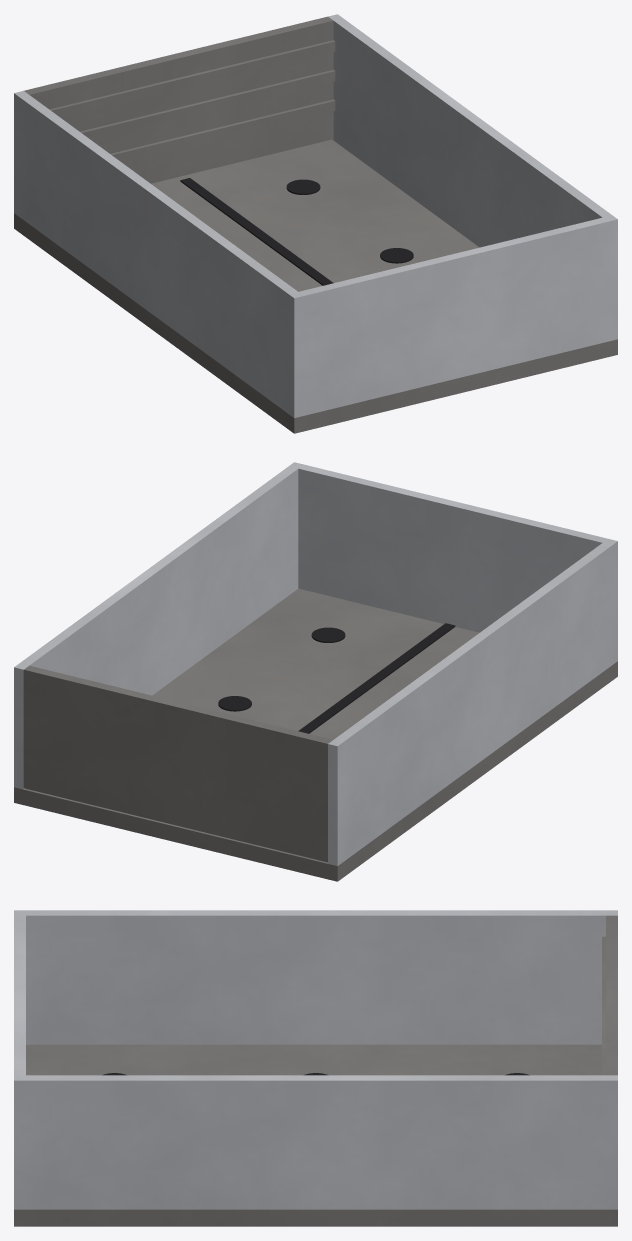
The model's file is rover25_cargo_bed_s.glb.
3 views of the same model, one above another, from view 1: azimuth 30°, elevation 25°; view 2: azimuth 150°, elevation 25°; view 3: azimuth 270°, elevation 25° (orthographic). The views are drawn at different scales.
Parts seen in each view (by area): view 1: side_walls, front_wall, floor, tailgate, tie_down_rails, sockets; view 2: side_walls, tailgate, floor, front_wall, tie_down_rails, sockets; view 3: side_walls, floor, tailgate, front_wall.
Boxes of the visible parts, bbox=[...] form: side_walls: bbox=[14, 14, 617, 417]; front_wall: bbox=[299, 217, 608, 415]; floor: bbox=[14, 139, 617, 433]; tailgate: bbox=[24, 16, 335, 183]; tie_down_rails: bbox=[180, 178, 333, 285]; sockets: bbox=[286, 179, 413, 263]; side_walls: bbox=[14, 462, 617, 865]; tailgate: bbox=[23, 665, 332, 862]; floor: bbox=[14, 588, 617, 881]; front_wall: bbox=[298, 464, 607, 632]; tie_down_rails: bbox=[298, 623, 455, 733]; sockets: bbox=[218, 627, 345, 711]; side_walls: bbox=[14, 910, 617, 1209]; floor: bbox=[14, 1044, 617, 1226]; tailgate: bbox=[602, 915, 617, 1075]; front_wall: bbox=[14, 915, 25, 1075].
Size of the model in its own units: 1 by 0.4 by 1.5.
3 materials, 2 textured.
